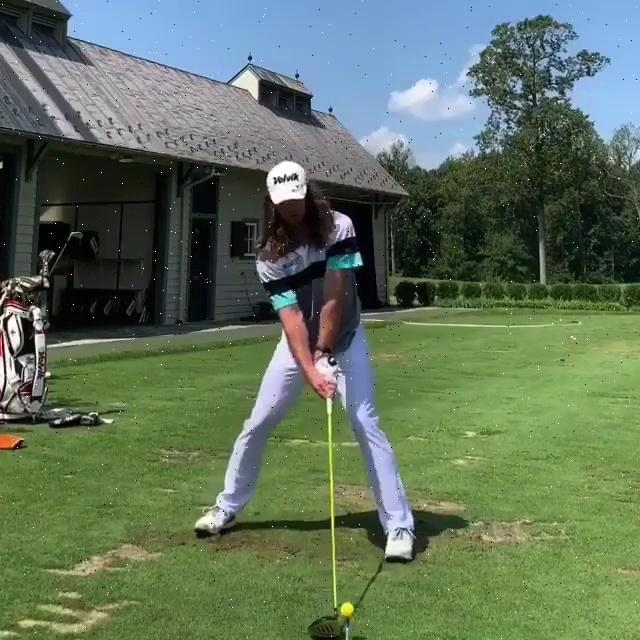ClubHead: (306, 616, 342, 640)
GolfBall: (340, 602, 354, 618)
